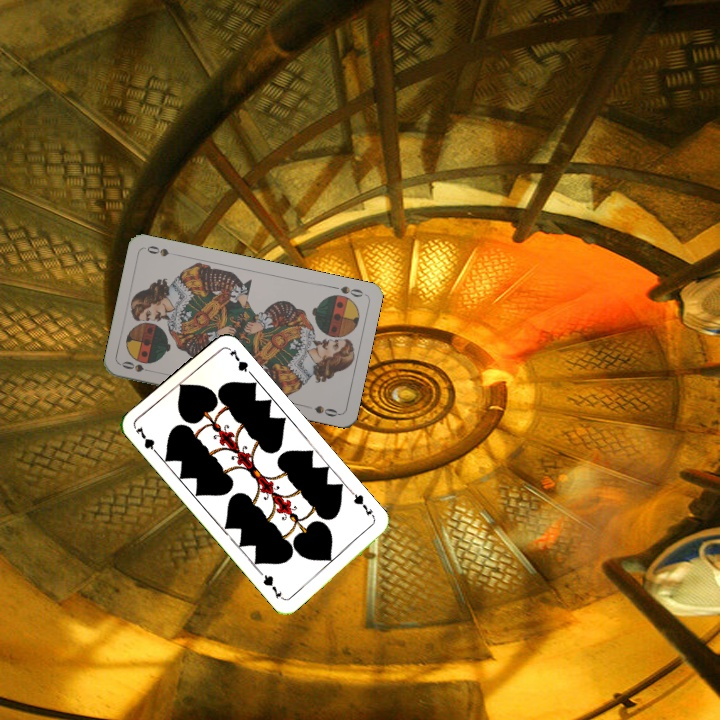G7: (131, 422, 162, 459), (347, 488, 378, 522)
SO: (118, 357, 158, 375), (327, 282, 366, 300)
